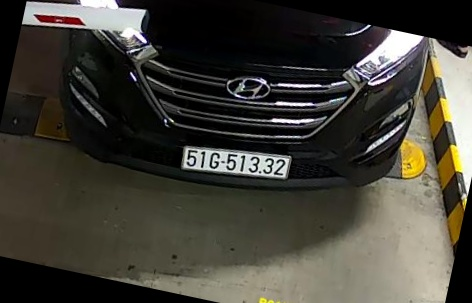plate: (177, 135, 300, 193)
